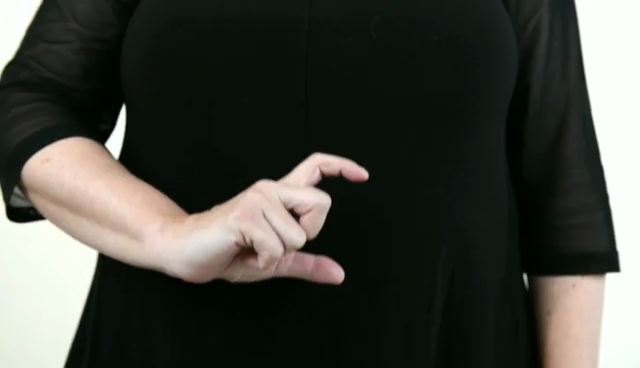C: (191, 148, 372, 297)
